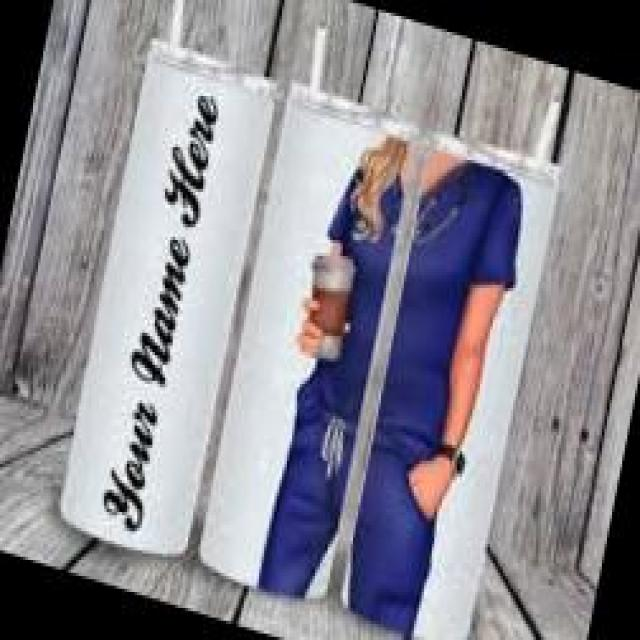bottle: (333, 61, 579, 640), (194, 18, 436, 606), (53, 0, 297, 563)
